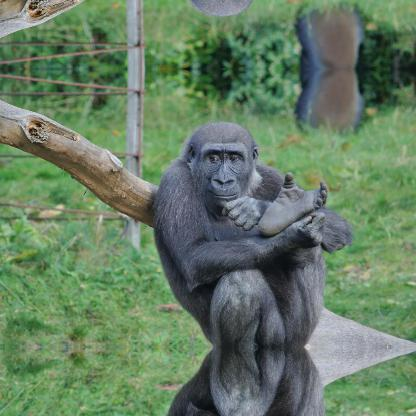Monkey: (134, 121, 358, 346), (133, 346, 359, 415)
